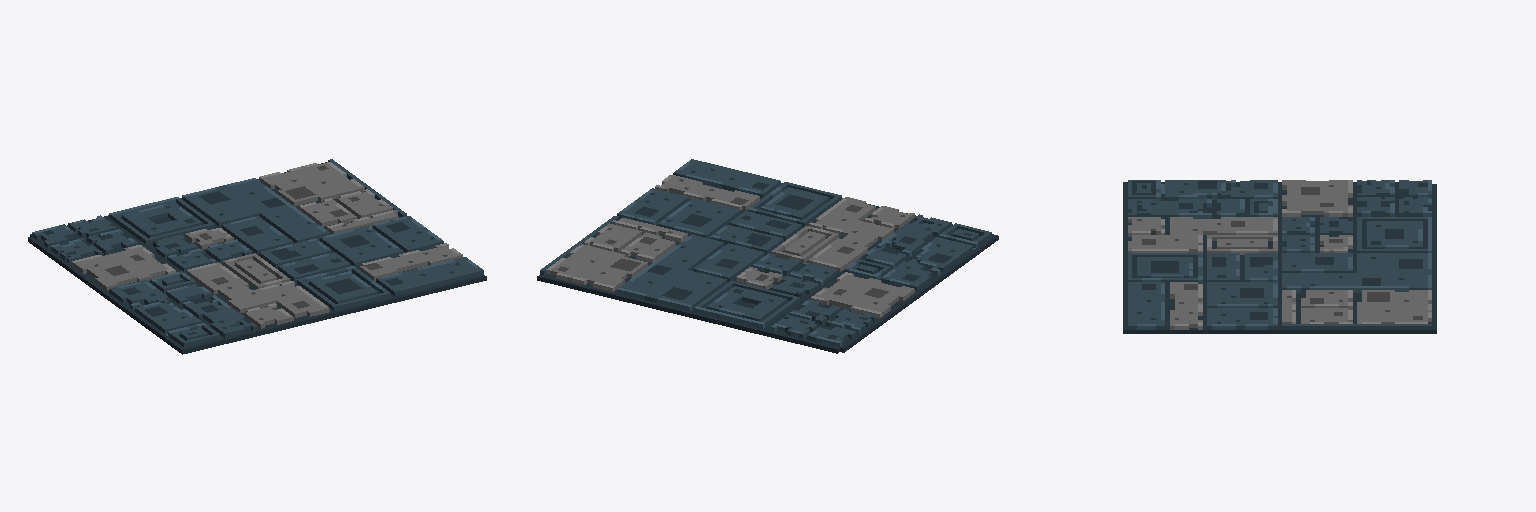
3 renders of one model, left to right at view 1: azimuth 30°, elevation 25°; view 2: azimuth 150°, elevation 25°; view 3: azimuth 270°, elevation 25°, orthographic.
Bounding box in the file's own units: 75 × 2 × 67.
1 materials, 1 textured.